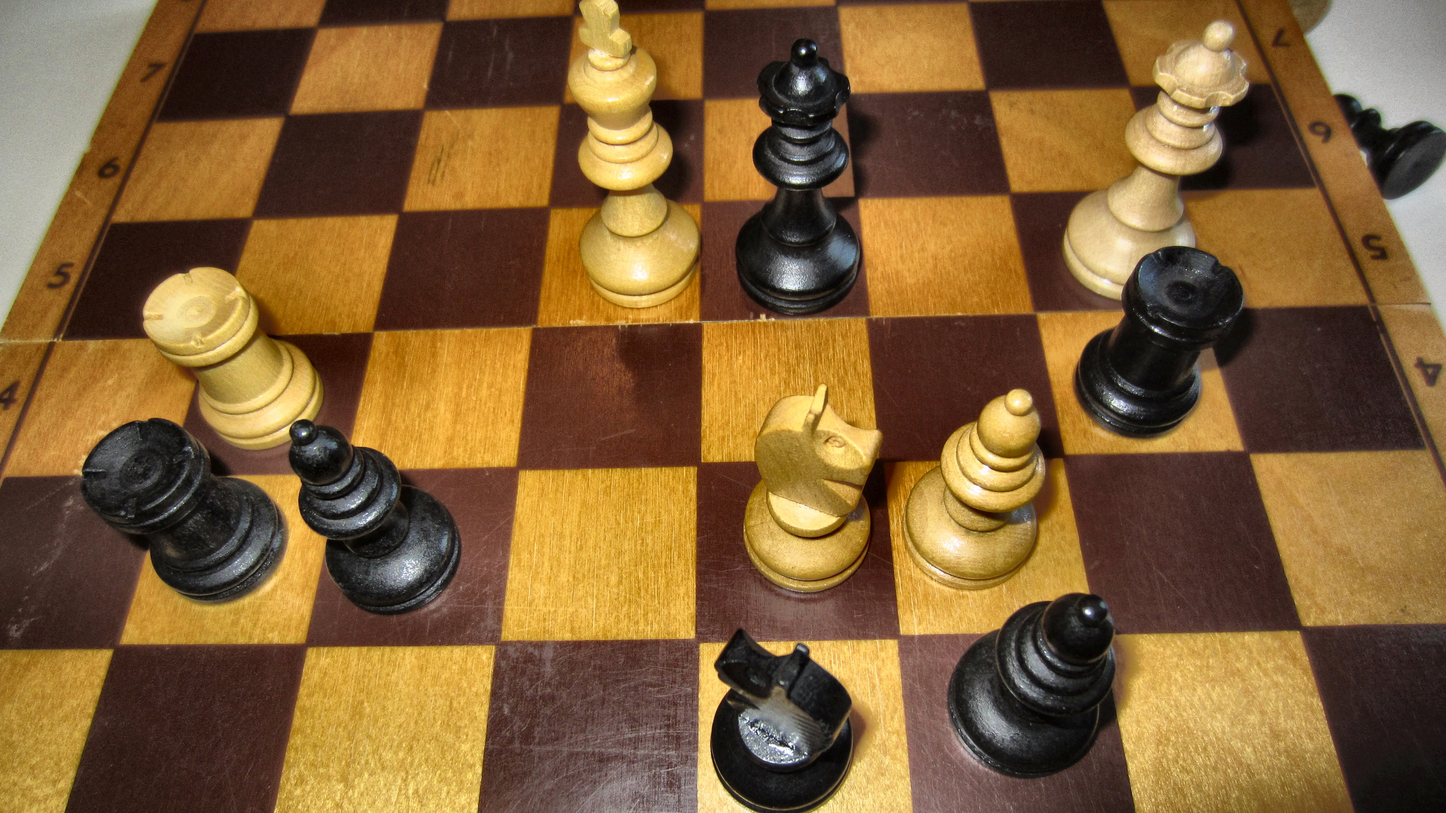black-bishop: (288, 418, 462, 616), (945, 591, 1120, 782)
black-knight: (707, 626, 856, 813)
black-queen: (733, 36, 863, 316)
black-rook: (79, 416, 291, 604), (1071, 245, 1246, 440)
white-bishop: (902, 387, 1048, 591)
white-king: (566, 0, 702, 312)
white-knight: (739, 384, 882, 595)
white-queen: (1060, 19, 1251, 307)
white-rook: (140, 265, 324, 451)
